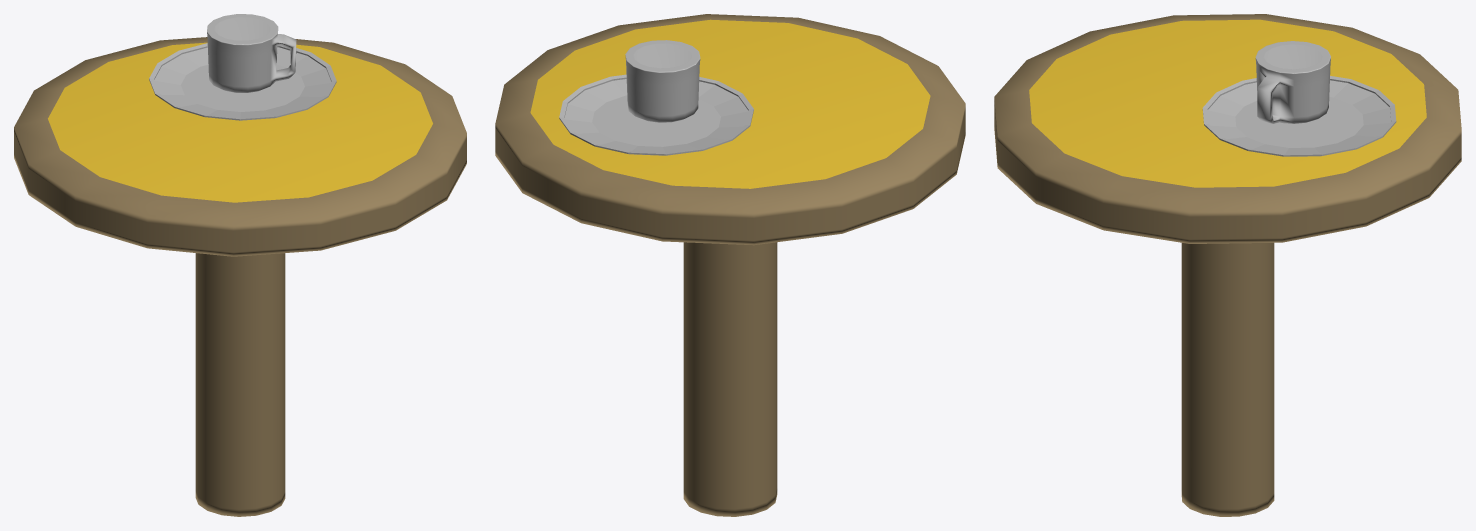
File: coffee table.fbx
3 views of the same model, side by side, from view 1: azimuth 30°, elevation 25°; view 2: azimuth 150°, elevation 25°; view 3: azimuth 270°, elevation 25° (orthographic). The views are drawn at different scales.
Parts seen in each view (by area): view 1: coffee shop table.000; view 2: coffee shop table.000; view 3: coffee shop table.000.
Boxes of the visible parts, left/top/right/bottom form: coffee shop table.000: left=14, top=14, right=466, bottom=516; coffee shop table.000: left=495, top=14, right=965, bottom=516; coffee shop table.000: left=994, top=14, right=1461, bottom=516.
Bounding box in the file's own units: 2.27 × 2.46 × 2.27.
